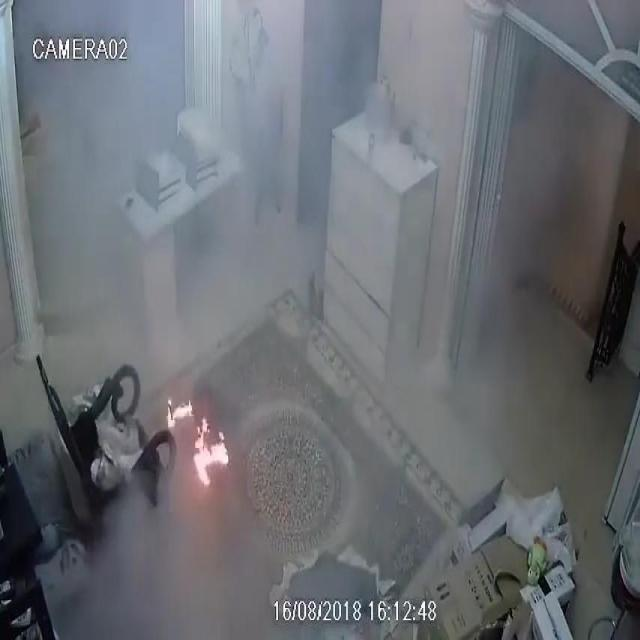fire: (193, 416, 230, 486), (166, 392, 194, 428)
